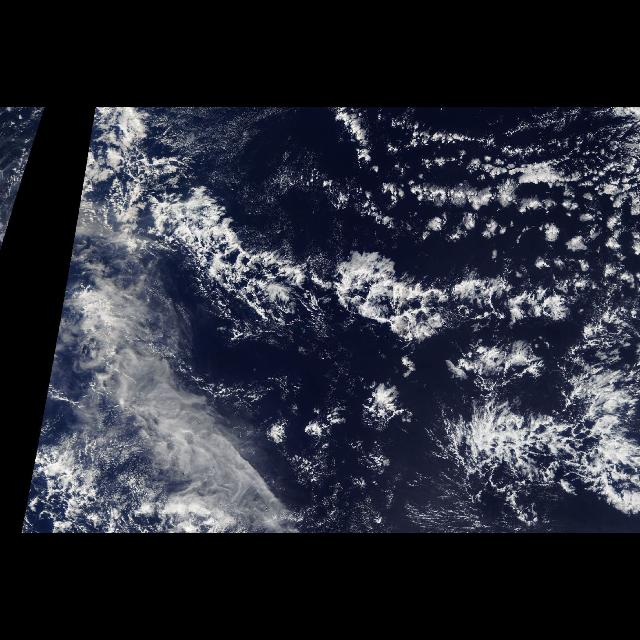Fish: (96, 110, 640, 516)
Flower: (376, 110, 598, 258)
